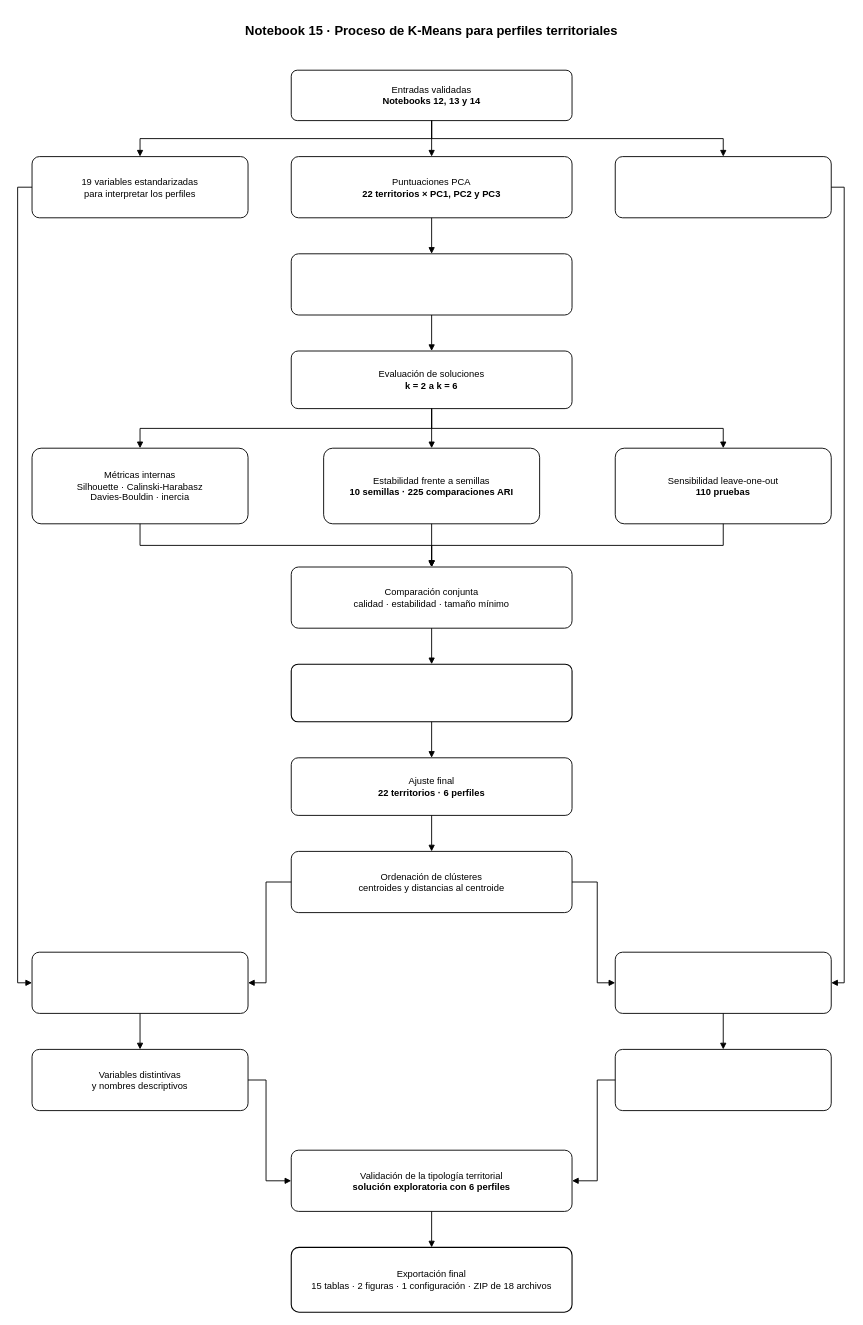
The diagram is 863 pixels wide and 1325 high, and some of its shapes have lost their labels. Here are the shapes that lost their labels. From the top down, the centre of each, then its label:
(x=722, y=187): Resultados de Isolation Forest como información complementaria
(x=431, y=284): Matriz de entrada a K-Means PC1 + PC2 + PC3 · sin nuevo escalado
(x=431, y=692): Selección de la solución principal k = 6
(x=139, y=982): Perfil medio por clúster 19 variables estandarizadas
(x=722, y=982): Integración de singularidades modelo base + estabilidad
(x=722, y=1080): Prueba adicional sin PT1A y PT1B 20 territorios · k = 5 · ARI = 1,000
